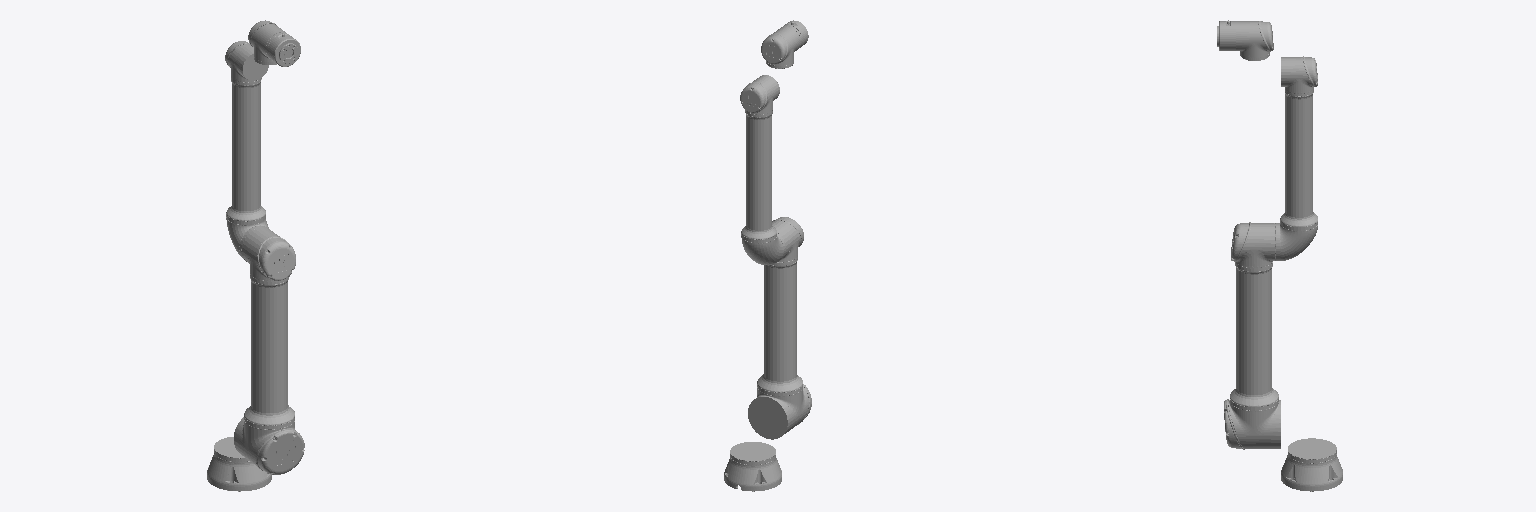
The robot description file, URDF, robot "ur5":
<?xml version="1.0" ?>
<!-- =================================================================================== -->
<!-- |    This document was autogenerated by xacro from [local-path]/catkin_ws/src/ur5_description/urdf/ur5_description_URDF.xacro | -->
<!-- |    EDITING THIS FILE BY HAND IS NOT RECOMMENDED                                 | -->
<!-- =================================================================================== -->
<robot name="ur5">
    <material name="silver">
        <color rgba="0.700 0.700 0.700 1.000" />
    </material>
    <transmission name="base_joint_tran">
        <type>transmission_interface/SimpleTransmission</type>
        <joint name="base_joint">
            <hardwareInterface>hardware_interface/EffortJointInterface</hardwareInterface>
        </joint>
        <actuator name="base_joint_actr">
            <hardwareInterface>hardware_interface/EffortJointInterface</hardwareInterface>
            <mechanicalReduction>1</mechanicalReduction>
        </actuator>
    </transmission>
    <transmission name="shoulder_joint_tran">
        <type>transmission_interface/SimpleTransmission</type>
        <joint name="shoulder_joint">
            <hardwareInterface>hardware_interface/EffortJointInterface</hardwareInterface>
        </joint>
        <actuator name="shoulder_joint_actr">
            <hardwareInterface>hardware_interface/EffortJointInterface</hardwareInterface>
            <mechanicalReduction>1</mechanicalReduction>
        </actuator>
    </transmission>
    <transmission name="arm_joint_tran">
        <type>transmission_interface/SimpleTransmission</type>
        <joint name="arm_joint">
            <hardwareInterface>hardware_interface/EffortJointInterface</hardwareInterface>
        </joint>
        <actuator name="arm_joint_actr">
            <hardwareInterface>hardware_interface/EffortJointInterface</hardwareInterface>
            <mechanicalReduction>1</mechanicalReduction>
        </actuator>
    </transmission>
    <transmission name="forearm_joint_tran">
        <type>transmission_interface/SimpleTransmission</type>
        <joint name="forearm_joint">
            <hardwareInterface>hardware_interface/EffortJointInterface</hardwareInterface>
        </joint>
        <actuator name="forearm_joint_actr">
            <hardwareInterface>hardware_interface/EffortJointInterface</hardwareInterface>
            <mechanicalReduction>1</mechanicalReduction>
        </actuator>
    </transmission>
    <transmission name="wrist_joint_tran">
        <type>transmission_interface/SimpleTransmission</type>
        <joint name="wrist_joint">
            <hardwareInterface>hardware_interface/EffortJointInterface</hardwareInterface>
        </joint>
        <actuator name="wrist_joint_actr">
            <hardwareInterface>hardware_interface/EffortJointInterface</hardwareInterface>
            <mechanicalReduction>1</mechanicalReduction>
        </actuator>
    </transmission>
    <transmission name="suction_joint_tran">
        <type>transmission_interface/SimpleTransmission</type>
        <joint name="suction_joint">
            <hardwareInterface>hardware_interface/EffortJointInterface</hardwareInterface>
        </joint>
        <actuator name="suction_joint_actr">
            <hardwareInterface>hardware_interface/EffortJointInterface</hardwareInterface>
            <mechanicalReduction>1</mechanicalReduction>
        </actuator>
    </transmission>
    <gazebo>
        <plugin filename="libgazebo_ros_control.so" name="control" />
        <plugin name="gazebo_ros_control">
            <robotNamespace>/</robotNamespace>
        </plugin>
    </gazebo>
    <gazebo reference="base_link">
        <material>Gazebo/Silver</material>
        <mu1>0.2</mu1>
        <mu2>0.2</mu2>
        <selfCollide>true</selfCollide>
        <gravity>true</gravity>
    </gazebo>
    <gazebo reference="shoulder_1">
        <material>Gazebo/Silver</material>
        <mu1>0.2</mu1>
        <mu2>0.2</mu2>
        <selfCollide>true</selfCollide>
    </gazebo>
    <gazebo reference="arm_1">
        <material>Gazebo/Silver</material>
        <mu1>0.2</mu1>
        <mu2>0.2</mu2>
        <selfCollide>true</selfCollide>
    </gazebo>
    <gazebo reference="forearm_1">
        <material>Gazebo/Silver</material>
        <mu1>0.2</mu1>
        <mu2>0.2</mu2>
        <selfCollide>true</selfCollide>
    </gazebo>
    <gazebo reference="wrist_1">
        <material>Gazebo/Silver</material>
        <mu1>0.2</mu1>
        <mu2>0.2</mu2>
        <selfCollide>true</selfCollide>
    </gazebo>
    <gazebo reference="end_1">
        <material>Gazebo/Silver</material>
        <mu1>0.2</mu1>
        <mu2>0.2</mu2>
        <selfCollide>true</selfCollide>
    </gazebo>
    <gazebo reference="suction_1">
        <material>Gazebo/Silver</material>
        <mu1>0.2</mu1>
        <mu2>0.2</mu2>
        <selfCollide>true</selfCollide>
    </gazebo>
    <link name="base_link">
        <inertial>
            <origin rpy="0 0 0" xyz="-8.269719423545992e-05 0.0010857267036388984 0.06047682470875622" />
            <mass value="29.485735477923164" />
            <inertia ixx="0.024776" ixy="7e-06" ixz="-2.2e-05" iyy="0.028156" iyz="0.000408" izz="0.038965" />
        </inertial>
        <visual>
            <origin rpy="0 0 0" xyz="0 0 0" />
            <geometry>
                <mesh filename="package://ur5_description/meshes/base_link.stl" scale="0.001 0.001 0.001" />
            </geometry>
            <material name="silver" />
        </visual>
        <collision>
            <origin rpy="0 0 0" xyz="0 0 0" />
            <geometry>
                <mesh filename="package://ur5_description/meshes/base_link.stl" scale="0.001 0.001 0.001" />
            </geometry>
        </collision>
    </link>
    <link name="shoulder_1">
        <inertial>
            <origin rpy="0 0 0" xyz="-5.136379737825127e-07 -0.012893561064329193 0.08338921276398253" />
            <mass value="7.491767242063588" />
            <inertia ixx="0.113371" ixy="-0.0" ixz="0.0" iyy="0.100756" iyz="0.0014" izz="0.094339" />
        </inertial>
        <visual>
            <origin rpy="0 0 0" xyz="0.0 -0.0 -0.0993" />
            <geometry>
                <mesh filename="package://ur5_description/meshes/shoulder_1.stl" scale="0.001 0.001 0.001" />
            </geometry>
            <material name="silver" />
        </visual>
        <collision>
            <origin rpy="0 0 0" xyz="0.0 -0.0 -0.0993" />
            <geometry>
                <mesh filename="package://ur5_description/meshes/shoulder_1.stl" scale="0.001 0.001 0.001" />
            </geometry>
        </collision>
    </link>
    <link name="arm_1">
        <inertial>
            <origin rpy="0 0 0" xyz="-6.124271792012328e-08 -0.08240844330284518 0.21130484810557812" />
            <mass value="3.96604980819084" />
            <inertia ixx="3.314125" ixy="-0.0" ixz="-1e-06" iyy="3.291262" iyz="-0.00734" izz="0.144311" />
        </inertial>
        <visual>
            <origin rpy="0 0 0" xyz="0.0 0.0946 -0.1807" />
            <geometry>
                <mesh filename="package://ur5_description/meshes/arm_1.stl" scale="0.001 0.001 0.001" />
            </geometry>
            <material name="silver" />
        </visual>
        <collision>
            <origin rpy="0 0 0" xyz="0.0 0.0946 -0.1807" />
            <geometry>
                <mesh filename="package://ur5_description/meshes/arm_1.stl" scale="0.001 0.001 0.001" />
            </geometry>
        </collision>
    </link>
    <link name="forearm_1">
        <inertial>
            <origin rpy="0 0 0" xyz="2.586346781728835e-07 0.06359393788395254 0.24263670260699677" />
            <mass value="1.327241051156584" />
            <inertia ixx="1.267089" ixy="0.0" ixz="0.0" iyy="1.261071" iyz="-0.041708" izz="0.0347" />
        </inertial>
        <visual>
            <origin rpy="0 0 0" xyz="0.0 0.1126 -0.7934" />
            <geometry>
                <mesh filename="package://ur5_description/meshes/forearm_1.stl" scale="0.001 0.001 0.001" />
            </geometry>
            <material name="silver" />
        </visual>
        <collision>
            <origin rpy="0 0 0" xyz="0.0 0.1126 -0.7934" />
            <geometry>
                <mesh filename="package://ur5_description/meshes/forearm_1.stl" scale="0.001 0.001 0.001" />
            </geometry>
        </collision>
    </link>
    <link name="wrist_1">
        <inertial>
            <origin rpy="0 0 0" xyz="1.221373912611945e-08 -0.06248572574196583 0.0015387505793551526" />
            <mass value="0.27456909234358" />
            <inertia ixx="0.014273" ixy="-0.0" ixz="-0.0" iyy="0.010388" iyz="0.000361" izz="0.011811" />
        </inertial>
        <visual>
            <origin rpy="0 0 0" xyz="-0.0 0.0957 -1.364735" />
            <geometry>
                <mesh filename="package://ur5_description/meshes/wrist_1.stl" scale="0.001 0.001 0.001" />
            </geometry>
            <material name="silver" />
        </visual>
        <collision>
            <origin rpy="0 0 0" xyz="-0.0 0.0957 -1.364735" />
            <geometry>
                <mesh filename="package://ur5_description/meshes/wrist_1.stl" scale="0.001 0.001 0.001" />
            </geometry>
        </collision>
    </link>
    <link name="end_1">
        <inertial>
            <origin rpy="0 0 0" xyz="2.901738992434707e-07 -0.001724242336090448 0.05332507883002502" />
            <mass value="0.195239059350037" />
            <inertia ixx="0.011265" ixy="-0.0" ixz="-0.0" iyy="0.008806" iyz="0.000289" izz="0.009591" />
        </inertial>
        <visual>
            <origin rpy="0 0 0" xyz="-0.0 0.17415 -1.421635" />
            <geometry>
                <mesh filename="package://ur5_description/meshes/end_1.stl" scale="0.001 0.001 0.001" />
            </geometry>
            <material name="silver" />
        </visual>
        <collision>
            <origin rpy="0 0 0" xyz="-0.0 0.17415 -1.421635" />
            <geometry>
                <mesh filename="package://ur5_description/meshes/end_1.stl" scale="0.001 0.001 0.001" />
            </geometry>
        </collision>
    </link>
    <link name="suction_1">
        <inertial>
            <origin rpy="0 0 0" xyz="6.961771223765484e-13 -0.027764546560901465 -0.00011193336601378334" />
            <mass value="0.0494649759637526" />
            <inertia ixx="0.002071" ixy="-0.0" ixz="-0.0" iyy="0.002723" iyz="-0.0" izz="0.002082" />
        </inertial>
        <visual>
            <origin rpy="0 0 0" xyz="-0.0 0.23105 -1.484585" />
            <geometry>
                <mesh filename="package://ur5_description/meshes/suction_1.stl" scale="0.001 0.001 0.001" />
            </geometry>
            <material name="silver" />
        </visual>
        <collision>
            <origin rpy="0 0 0" xyz="-0.0 0.23105 -1.484585" />
            <geometry>
                <mesh filename="package://ur5_description/meshes/suction_1.stl" scale="0.001 0.001 0.001" />
            </geometry>
        </collision>
    </link>
    <joint name="base_joint" type="continuous">
        <origin rpy="0 0 0" xyz="0.0 0.0 0.0993" />
        <parent link="base_link" />
        <child link="shoulder_1" />
        <axis xyz="0.0 0.0 1.0" />
    </joint>
    <joint name="shoulder_joint" type="continuous">
        <origin rpy="0 0 0" xyz="0.0 -0.0946 0.0814" />
        <parent link="shoulder_1" />
        <child link="arm_1" />
        <axis xyz="-0.0 -1.0 0.0" />
    </joint>
    <joint name="arm_joint" type="revolute">
        <origin rpy="0 0 0" xyz="0.0 -0.018 0.6127" />
        <parent link="arm_1" />
        <child link="forearm_1" />
        <axis xyz="-0.0 1.0 -0.0" />
        <limit effort="100" lower="-2.879793" upper="2.879793" velocity="100" />
    </joint>
    <joint name="forearm_joint" type="continuous">
        <origin rpy="0 0 0" xyz="0.0 0.0169 0.571335" />
        <parent link="forearm_1" />
        <child link="wrist_1" />
        <axis xyz="0.0 -1.0 0.0" />
    </joint>
    <joint name="wrist_joint" type="continuous">
        <origin rpy="0 0 0" xyz="0.0 -0.07845 0.0569" />
        <parent link="wrist_1" />
        <child link="end_1" />
        <axis xyz="-0.0 0.0 1.0" />
    </joint>
    <joint name="suction_joint" type="fixed">
        <origin rpy="0 0 0" xyz="0.0 -0.0569 0.06295" />
        <parent link="end_1" />
        <child link="suction_1" />
        <axis xyz="0.0 -1.0 0.0" />
    </joint>
</robot>

--- Facts derived from the render (not from the file) ---
3 views of the same robot in one strip: view 1: azimuth 30°, elevation 25°; view 2: azimuth 150°, elevation 25°; view 3: azimuth 270°, elevation 25° (orthographic).
Robot: ur5 — 7 links, 6 joints (1 revolute, 4 continuous, 1 fixed); root link base_link; default pose: all joints at 0.
Links seen in each view (by area): view 1: arm_1, forearm_1, base_link, suction_1, end_1; view 2: arm_1, forearm_1, base_link, end_1; view 3: arm_1, forearm_1, base_link, end_1, suction_1.
Boxes of the visible links, x1,y1,x2,y2 form: arm_1: (234, 228, 304, 474); forearm_1: (225, 41, 268, 261); base_link: (207, 437, 271, 491); suction_1: (266, 32, 300, 66); end_1: (248, 20, 285, 64); arm_1: (748, 217, 811, 439); forearm_1: (740, 75, 785, 264); base_link: (724, 442, 781, 491); end_1: (761, 26, 800, 68); arm_1: (1224, 222, 1280, 449); forearm_1: (1275, 56, 1317, 260); base_link: (1281, 438, 1342, 491); end_1: (1236, 21, 1273, 60); suction_1: (1217, 20, 1235, 50).
Bounding box of the posed robot: 0.19 × 0.3857 × 1.54 m (x, y, z).
Meshes: 7 distinct files referenced, 5 mesh visuals loaded (5 binary STL); not drawn: 2 (reference not matched to a file when rendering).
